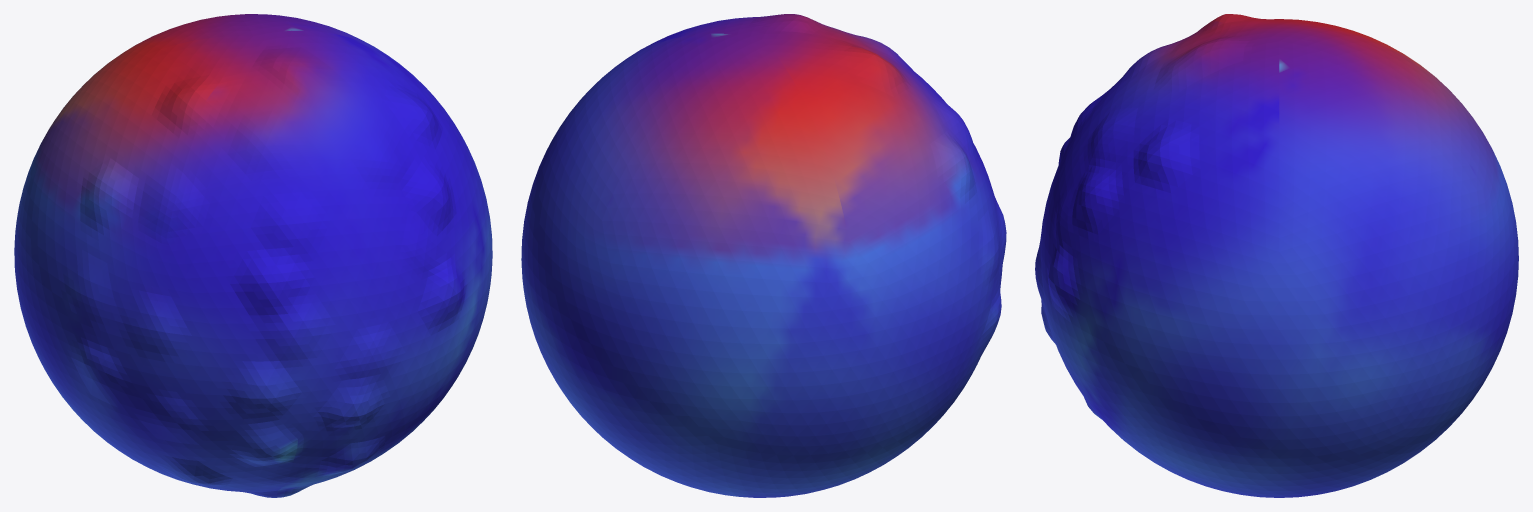
The model's file is particle5.glb.
3 views of the same model, side by side, from view 1: azimuth 30°, elevation 25°; view 2: azimuth 150°, elevation 25°; view 3: azimuth 270°, elevation 25° (orthographic).
Visible parts, largest first — view 1: 棱角球; view 2: 棱角球; view 3: 棱角球.
Part boxes in pixels (x1=…): 棱角球: x1=14, y1=14, x2=492, y2=497; 棱角球: x1=521, y1=14, x2=1006, y2=497; 棱角球: x1=1035, y1=14, x2=1518, y2=497.
Size of the model in its own units: 2 by 2 by 2.02.
Materials: 1 (1 with a texture image).
